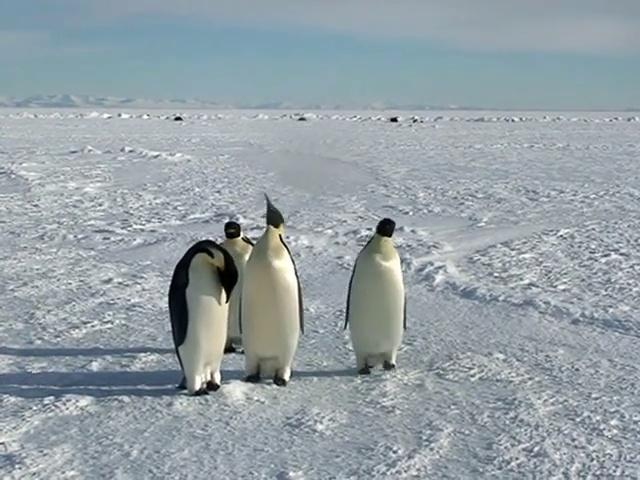animal: (346, 219, 407, 374)
